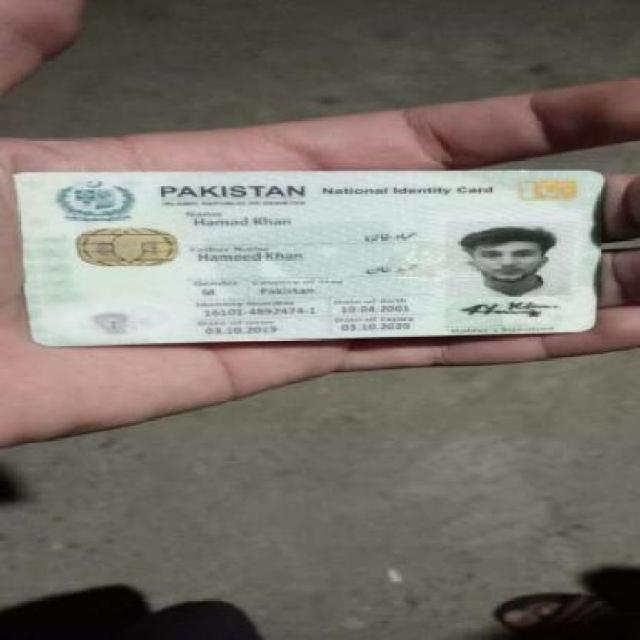Front: (7, 160, 616, 338)
